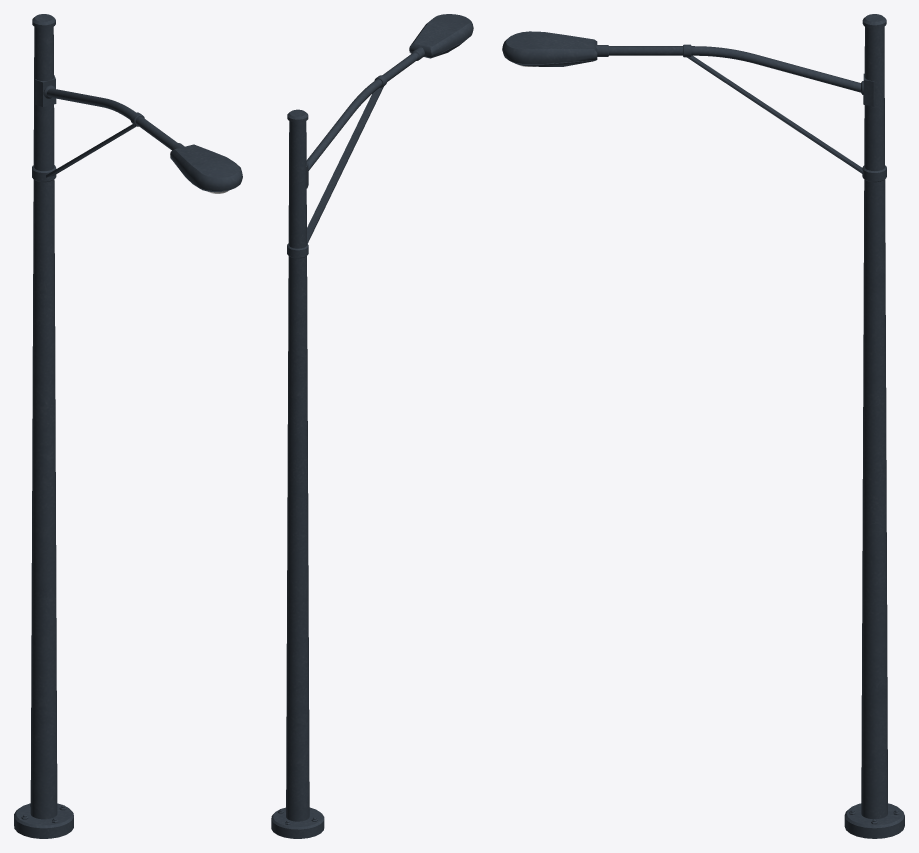
File: StreetLightA.fbx
3 views of the same model, side by side, from view 1: azimuth 30°, elevation 25°; view 2: azimuth 150°, elevation 25°; view 3: azimuth 270°, elevation 25° (orthographic). The views are drawn at different scales.
Parts seen in each view (by area): view 1: StreetLight_A_LOD_0; view 2: StreetLight_A_LOD_0; view 3: StreetLight_A_LOD_0.
Boxes of the visible parts, box(x1,y1,x2,y2) form: StreetLight_A_LOD_0: box(14, 14, 242, 838); StreetLight_A_LOD_0: box(271, 14, 473, 838); StreetLight_A_LOD_0: box(502, 14, 904, 838).
Size of what is drawn, in the model's own units: 45.8 by 676 by 305.
